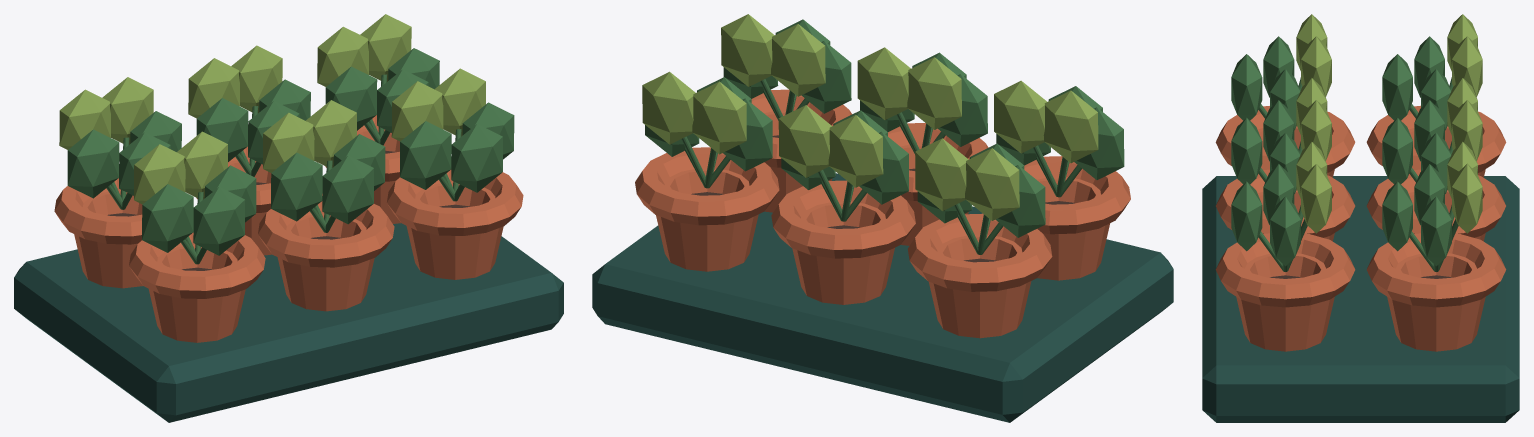
The model's file is market_19_Seedling_Tray.glb.
The picture shows the model from 3 angles, left to right: view 1: azimuth 30°, elevation 25°; view 2: azimuth 150°, elevation 25°; view 3: azimuth 270°, elevation 25°; orthographic projection. The views are drawn at different scales.
Visible parts, largest first — view 1: 19_Seedling_Tray; view 2: 19_Seedling_Tray; view 3: 19_Seedling_Tray.
Boxes of the visible parts, bbox=[...] form: 19_Seedling_Tray: bbox=[14, 14, 563, 422]; 19_Seedling_Tray: bbox=[592, 14, 1173, 422]; 19_Seedling_Tray: bbox=[1202, 14, 1519, 422].
Bounding box in the file's own units: 0.6 × 0.3313 × 0.4.
